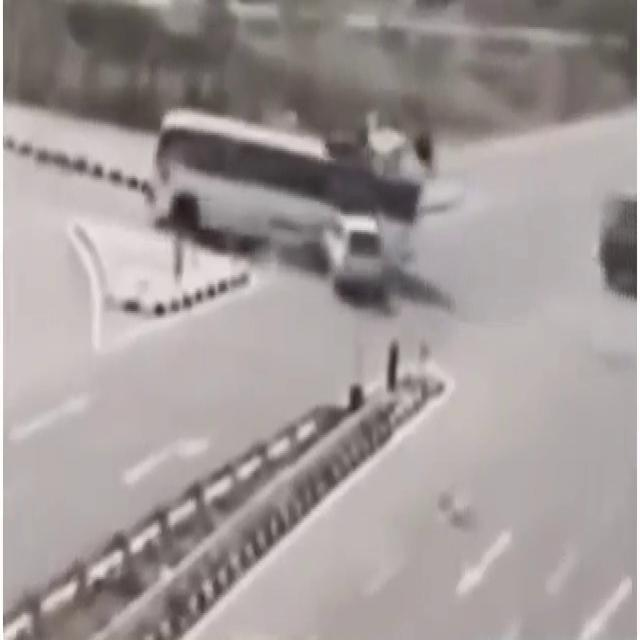accident: (150, 105, 431, 298)
